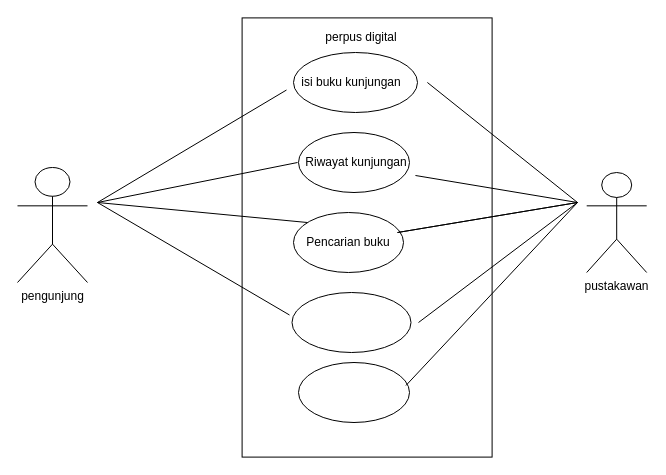
Some shapes in this 666 by 475 pixel diagram are drawn without their labels. The centre of each missing label's shape, as x and y in pixels:
Detail buku: [354,392]
Hasil pencarian buku: [351,322]
